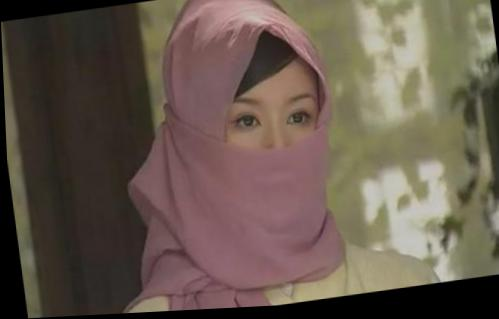WRONG: (206, 73, 332, 230)
